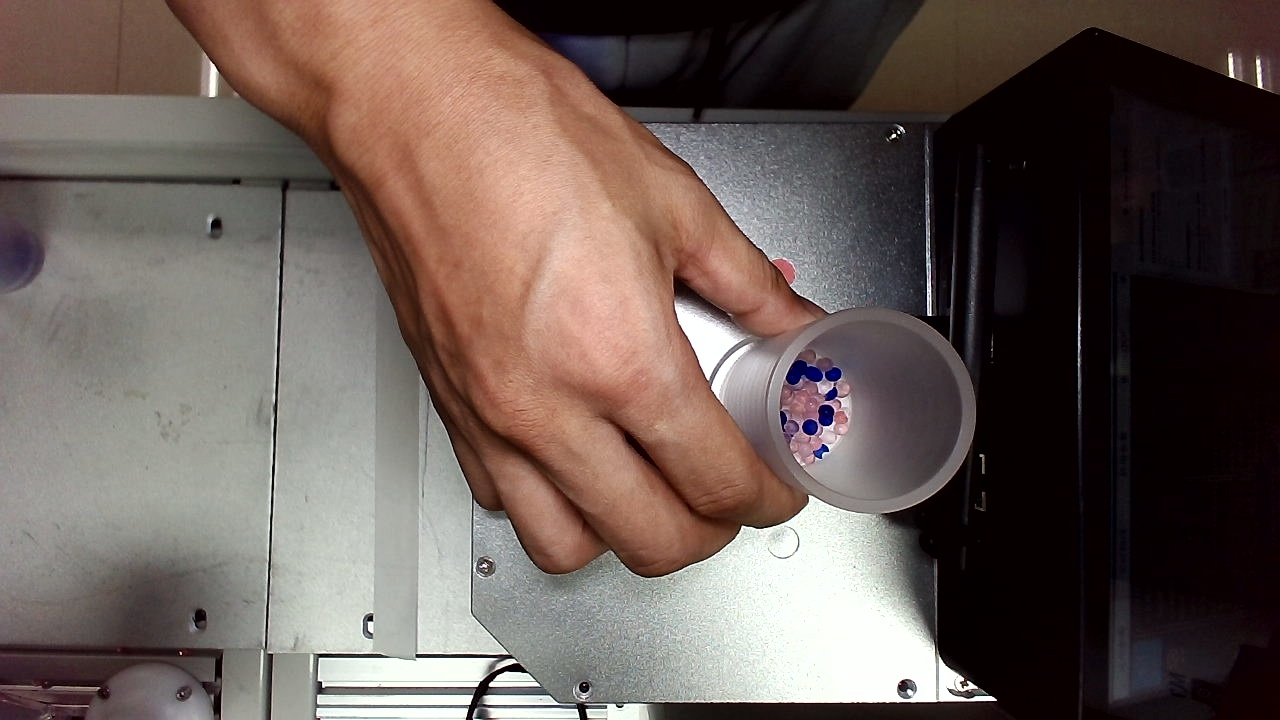bad: (836, 387, 887, 434), (254, 611, 307, 655), (644, 355, 689, 402), (259, 16, 305, 60), (782, 16, 825, 63), (627, 637, 671, 682), (833, 521, 876, 562), (468, 644, 508, 688), (260, 167, 304, 205), (258, 288, 298, 329), (817, 447, 859, 485), (807, 78, 845, 120), (519, 246, 559, 285), (345, 1, 384, 40), (776, 461, 817, 498), (592, 448, 633, 485), (836, 49, 876, 86), (269, 205, 313, 238), (773, 218, 812, 254), (258, 337, 298, 369), (436, 43, 472, 78), (832, 194, 872, 224), (806, 52, 840, 85)
defact: (744, 90, 782, 132), (688, 136, 728, 174)
pass: (567, 147, 615, 197), (261, 526, 304, 569), (263, 408, 306, 449), (287, 568, 330, 609), (638, 423, 681, 463), (515, 391, 554, 435), (389, 482, 430, 523), (843, 583, 884, 624), (716, 573, 754, 616), (696, 96, 732, 141), (673, 42, 710, 84), (844, 493, 887, 529), (566, 609, 604, 649), (772, 122, 810, 161), (748, 545, 781, 587)
toolong: (692, 347, 739, 423), (341, 39, 381, 104), (808, 310, 850, 370)
unpass: (830, 4, 874, 53), (610, 578, 654, 621), (650, 469, 694, 512), (798, 204, 844, 245), (408, 281, 450, 320), (640, 13, 677, 57), (277, 368, 321, 404), (722, 21, 762, 60), (308, 6, 346, 46), (403, 55, 440, 95), (774, 62, 814, 99), (822, 159, 864, 194), (844, 637, 879, 678), (685, 568, 721, 607), (845, 427, 889, 458), (843, 316, 881, 351)
